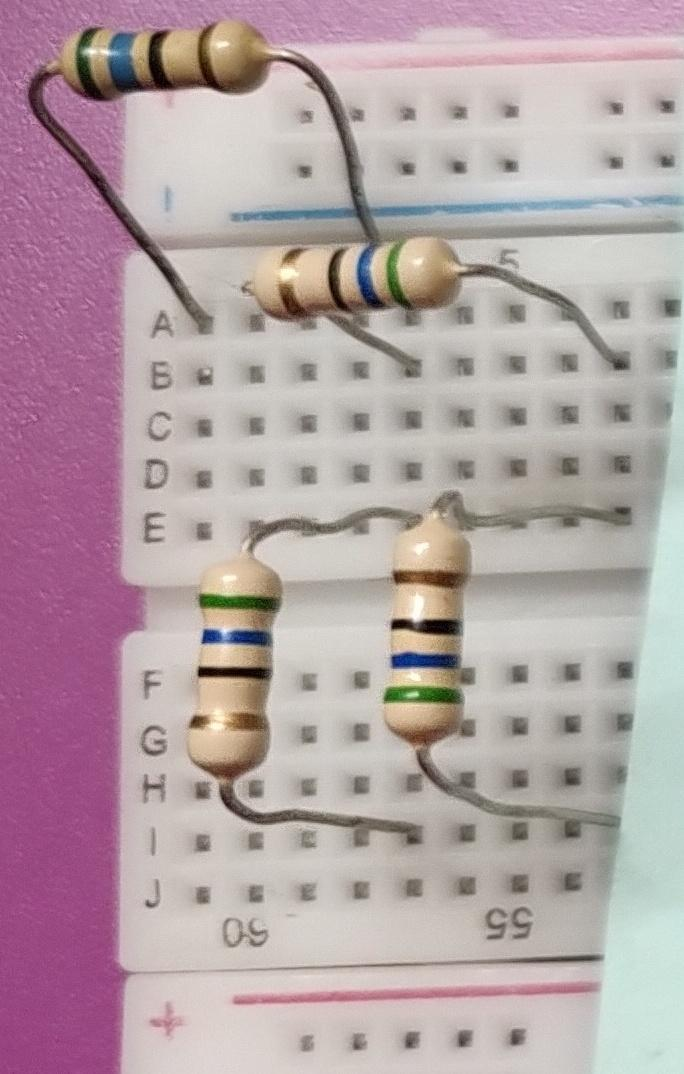resistor: (175, 539, 291, 783), (377, 511, 475, 760), (53, 14, 277, 105), (241, 235, 475, 322)
